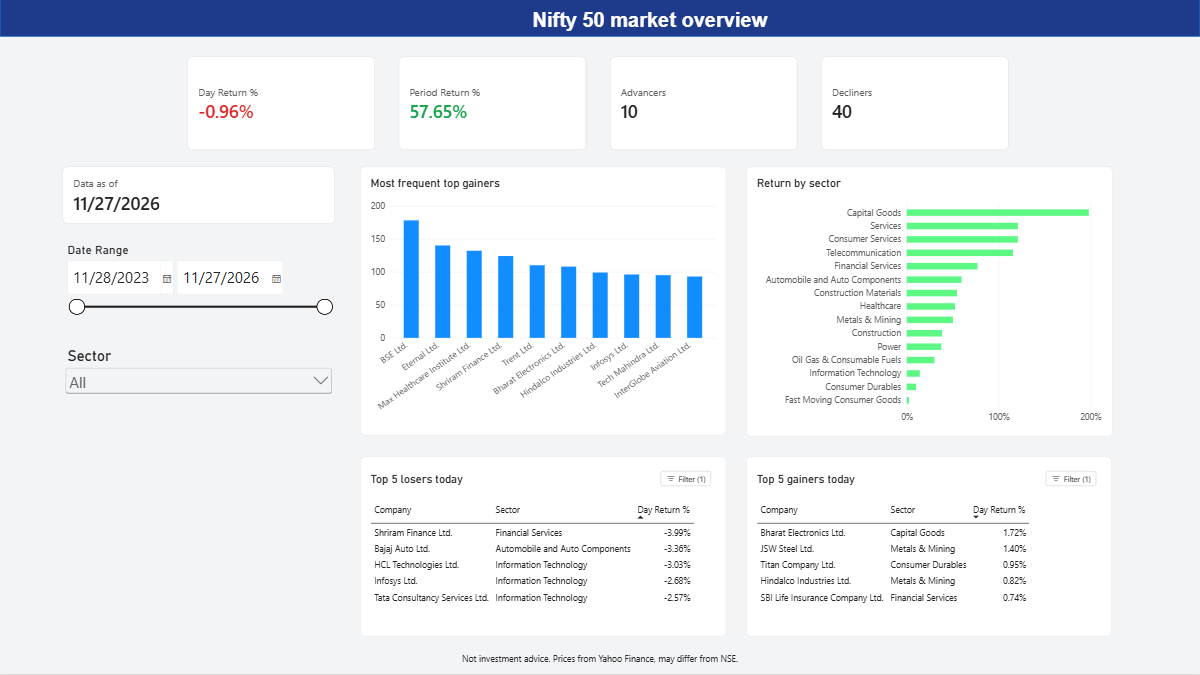

The page's visual inventory and layout, read from the dashboard file:
{"tool":"powerbi","page":{"name":"Market overview","canvas":[1920,1080],"ordinal":0},"visuals":[{"type":"shape","box":[0,0,1920,60],"z":0},{"type":"cardVisual","fields":{"Data":["_Measures.Period Return %"]},"box":[638,92,300,150],"z":1000},{"type":"cardVisual","title":"Data as of","fields":{"Data":["_Measures.Market Date"]},"box":[100,268,436.1,92.3],"z":2000},{"type":"slicer","fields":{"Values":["dim_date.date_day"]},"box":[100,390,436,150],"z":3000},{"type":"slicer","fields":{"Values":["dim_stock.sector"]},"box":[100,556,436,80],"z":4000},{"type":"cardVisual","fields":{"Data":["_Measures.Day Return %"]},"box":[300,92,300,150],"z":5000},{"type":"cardVisual","fields":{"Data":["_Measures.Advancers"]},"box":[976,92,300,150],"z":6000},{"type":"cardVisual","fields":{"Data":["_Measures.Decliners"]},"box":[1314,92,300,150],"z":7000},{"type":"clusteredBarChart","title":"Return by sector","fields":{"Category":["dim_stock.sector"],"Y":["_Measures.Period Return %"]},"box":[1194,268,586,432],"z":8000},{"type":"tableEx","title":"Top 5 gainers today","fields":{"Values":["dim_stock.company_name","dim_stock.sector","_Measures.Day Return %"]},"box":[1194,732,584.5,287.7],"z":9000},{"type":"tableEx","title":"Top 5 losers today","fields":{"Values":["dim_stock.company_name","dim_stock.sector","_Measures.Day Return %"]},"box":[576,732,586,288],"z":10000},{"type":"clusteredColumnChart","title":"Most frequent top gainers","fields":{"Category":["dim_stock.company_name"],"Y":["_Measures.Times Top Gainer"]},"box":[576,268,586,430],"z":11000},{"type":"textbox","box":[735,1045,447.8,35.6],"z":12000},{"type":"textbox","box":[852,16,396,76],"z":13000}]}

Visuals, with their boxes in screenshot pixels (x1, y1, x2, y2), scaled from the page's 1920x1080 canvas onto the 1200x675 screenshot:
shape: l=0, t=0, r=1199, b=38
cardVisual - _Measures.Period Return %: l=399, t=58, r=586, b=151
"Data as of" cardVisual: l=62, t=168, r=335, b=225
slicer - dim_date.date_day: l=62, t=244, r=335, b=338
slicer - dim_stock.sector: l=62, t=348, r=335, b=398
cardVisual - _Measures.Day Return %: l=188, t=58, r=375, b=151
cardVisual - _Measures.Advancers: l=610, t=58, r=798, b=151
cardVisual - _Measures.Decliners: l=821, t=58, r=1009, b=151
"Return by sector" clusteredBarChart: l=746, t=168, r=1112, b=438
"Top 5 gainers today" tableEx: l=746, t=458, r=1112, b=637
"Top 5 losers today" tableEx: l=360, t=458, r=726, b=638
"Most frequent top gainers" clusteredColumnChart: l=360, t=168, r=726, b=436
textbox: l=459, t=653, r=739, b=674
textbox: l=532, t=10, r=780, b=58
